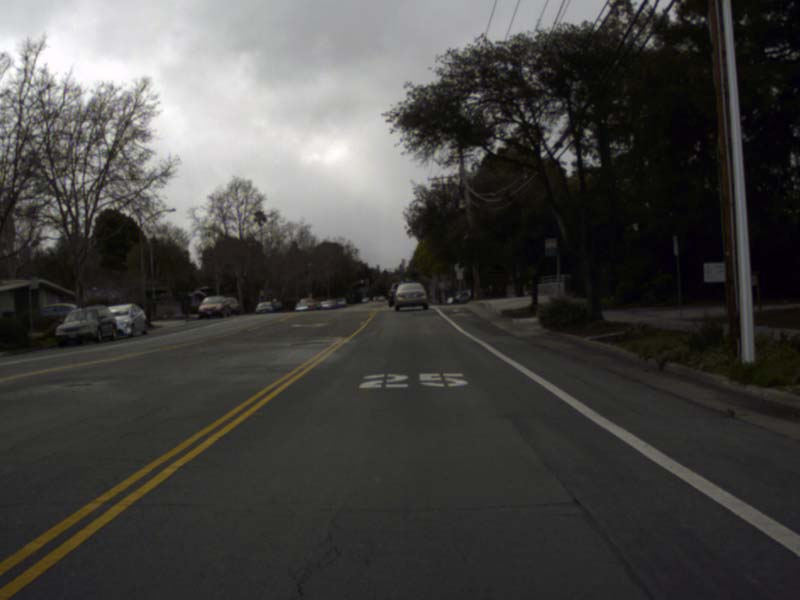Green: (401, 277, 403, 284)
